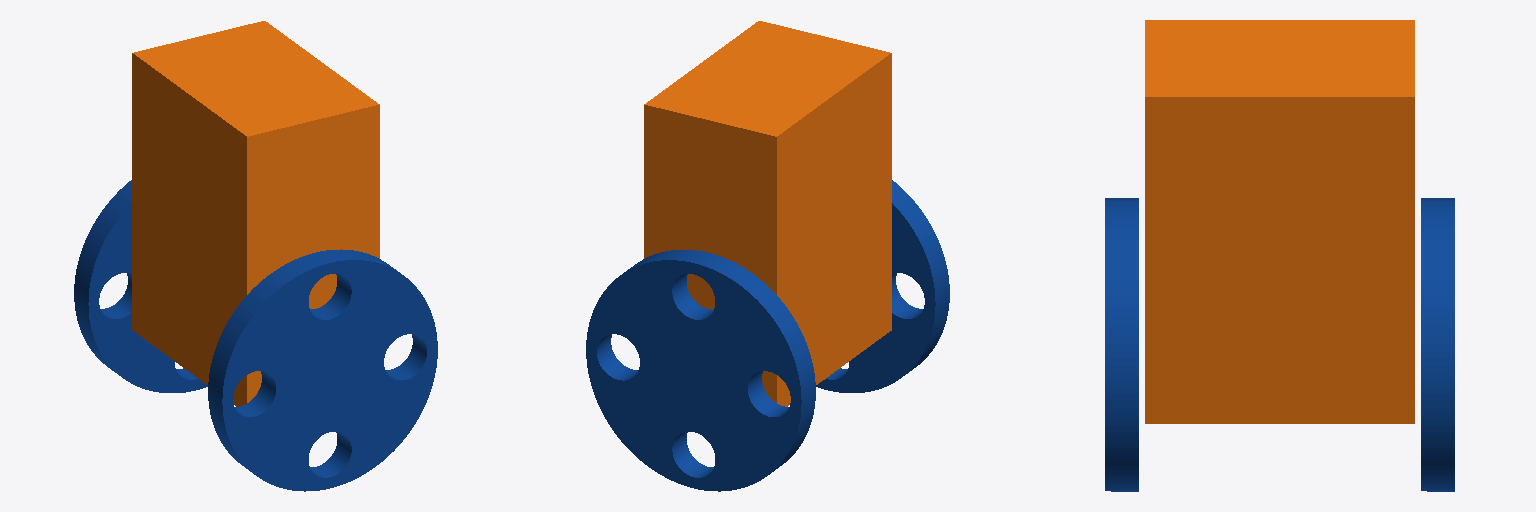
The robot description file, URDF, robot "platform":
<?xml version="1.0" ?>
<robot name="platform">

  <material name="industrial-blue">
    <color rgba="0.11372549019607843 0.34509803921568627 0.6549019607843137 1" />
  </material>

  <material name="arches-blue">
    <color rgba="0.0 0.6235294117647059 0.8313725490196079 1" />
  </material>

  <material name = "heritage-orange">
    <color rgba = "0.96078431 0.50980392 0.11764706 1" />
  </material>

  <link name="chassis">
    <visual>
      <origin rpy="0 0 0" xyz="0 0 0"/>
      <geometry>
  			<box size="0.4 0.6 0.8" />
      </geometry>
      <material name = "heritage-orange"/>
    </visual>
    <collision>
      <origin rpy="0 0 0" xyz="0 0 0"/>
      <geometry>
  			<box size="0.4 0.6 0.8" />
      </geometry>
    </collision>
    <inertial>
      <origin rpy="0 0 0" xyz="0 0 0"/>
      <mass value="12.0"/>
      <inertia ixx="1.0" ixy="0" ixz="0" iyy="0.8" iyz="0" izz="0.52"/>
    </inertial>
  </link>

  <link name="right_wheel">
    <visual>
      <origin rpy="0 0 0" xyz="0 0 0"/>
      <geometry>
  			<mesh filename="wheel.stl" scale="0.325 0.325 0.075"/>
      </geometry>
      <material name = "industrial-blue"/>
    </visual>
    <collision>
      <origin rpy="0 0 0" xyz="0 0 0"/>
      <geometry>
  			<cylinder radius="0.325" length="0.075" />
      </geometry>
    </collision>
    <inertial>
      <origin rpy="0 0 0" xyz="0 0 0"/>
      <mass value="1.2"/>
      <inertia ixx="0.03225" ixy="0" ixz="0" iyy="0.03225" iyz="0" izz="0.063375"/>
    </inertial>
  </link>

  <link name="left_wheel">
    <visual>
      <origin rpy="0 0 0" xyz="0 0 0"/>
      <geometry>
  			<mesh filename="wheel.stl" scale="0.325 0.325 0.075"/>
      </geometry>
      <material name = "industrial-blue"/>
    </visual>
    <collision>
      <origin rpy="0 0 0" xyz="0 0 0"/>
      <geometry>
  			<cylinder radius="0.325" length="0.075" />
      </geometry>
    </collision>
    <inertial>
      <origin rpy="0 0 0" xyz="0 0 0"/>
      <mass value="1.2"/>
      <inertia ixx="0.03225" ixy="0" ixz="0" iyy="0.03225" iyz="0" izz="0.063375"/>
    </inertial>
  </link>

  <joint name="chassis_to_left_wheel" type="continuous">
		<parent link = "chassis" />
		<child link = "left_wheel" />
		<origin rpy="1.57 0 0" xyz = "0 0.35 -0.3" />
		<axis xyz = "0 0 -1" />
		<limit effort="1000" velocity="1000"/>
	</joint>

  <joint name="chassis_to_right_wheel" type="continuous">
		<parent link = "chassis" />
		<child link = "right_wheel" />
		<origin rpy="1.57 0 0" xyz="0 -0.35 -0.3" />
		<axis xyz="0 0 -1" />
		<limit effort="1000" velocity="1000"/>
	</joint>

</robot>

--- What the picture shows (computed from the rendered views, not written in the file) ---
The picture shows the robot from 3 angles, left to right: view 1: azimuth 30°, elevation 25°; view 2: azimuth 150°, elevation 25°; view 3: azimuth 270°, elevation 25°; orthographic projection.
Model platform with 3 links and 2 joints (2 continuous), rooted at chassis, posed all joints at 0.
Links seen in each view (by area): view 1: chassis, right_wheel, left_wheel; view 2: chassis, left_wheel, right_wheel; view 3: chassis, right_wheel, left_wheel.
Link boxes in pixels (bbox=[...]): chassis: bbox=[132, 21, 379, 406]; right_wheel: bbox=[208, 249, 437, 491]; left_wheel: bbox=[74, 180, 207, 392]; chassis: bbox=[644, 21, 891, 406]; left_wheel: bbox=[586, 250, 815, 491]; right_wheel: bbox=[816, 180, 949, 392]; chassis: bbox=[1145, 20, 1414, 423]; right_wheel: bbox=[1105, 198, 1138, 491]; left_wheel: bbox=[1421, 198, 1454, 491].
Bounding box of the posed robot: 0.65 × 0.7755 × 1.02 m (x, y, z).
2 mesh visuals loaded from 1 distinct referenced files (1 binary STL).